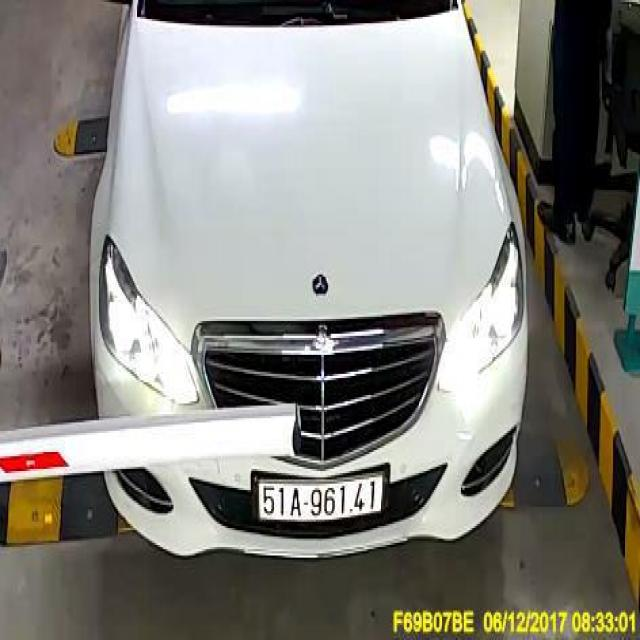License-Plates: (253, 457, 392, 527)
